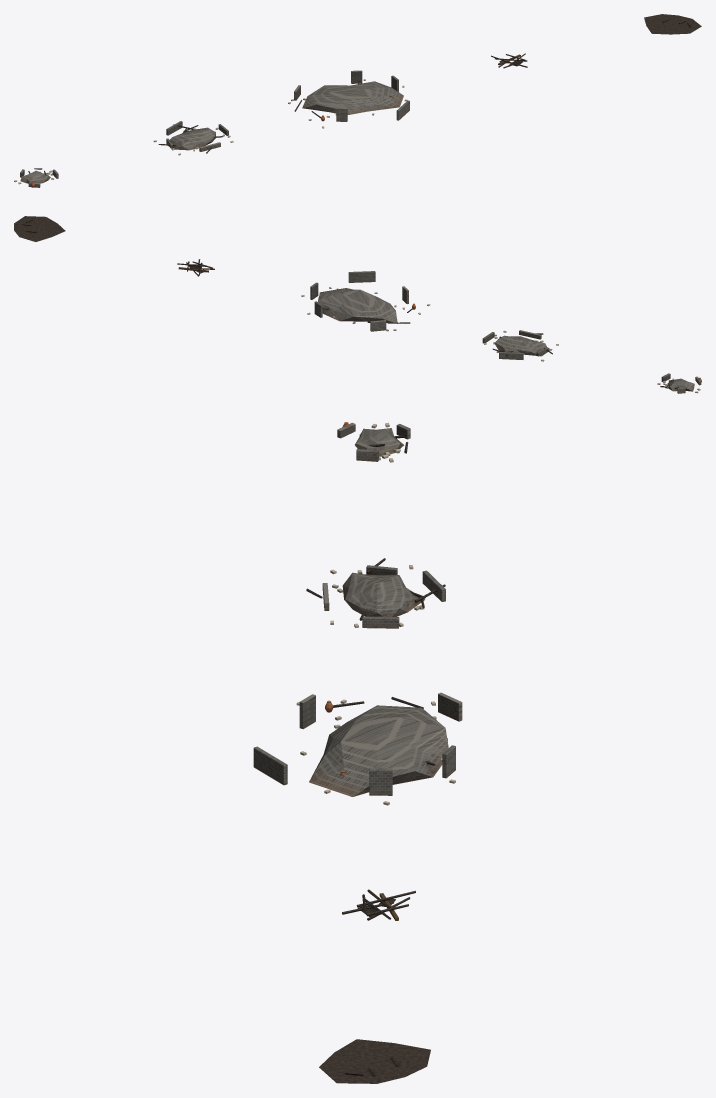
The model's file is ruins-kingdoms.glb.
3 renders of one model, top to bottom at view 1: azimuth 30°, elevation 25°; view 2: azimuth 150°, elevation 25°; view 3: azimuth 270°, elevation 25°, orthographic. The views are drawn at different scales.
Visible parts, largest first — view 1: LOD0.002, LOD0.001, LOD0.004, LOD0; view 2: LOD0.002, LOD0.001, LOD0.004, LOD0; view 3: LOD0.002, LOD0.001, LOD0.004, LOD0.
Boxes of the visible parts, box(x1,y1,x2,y2) form: LOD0.002: box(288, 70, 409, 128); LOD0.001: box(153, 121, 233, 155); LOD0.004: box(644, 14, 701, 34); LOD0: box(14, 168, 58, 187); LOD0.002: box(301, 271, 430, 331); LOD0.001: box(482, 330, 558, 361); LOD0.004: box(14, 216, 65, 241); LOD0: box(657, 373, 701, 393); LOD0.002: box(253, 692, 462, 805); LOD0.001: box(306, 558, 445, 628); LOD0.004: box(319, 1039, 430, 1083); LOD0: box(337, 422, 410, 462).
Size of what is drawn, in the model's own units: 12.79 by 0.2458 by 1.71.
1 material, 1 textured.
